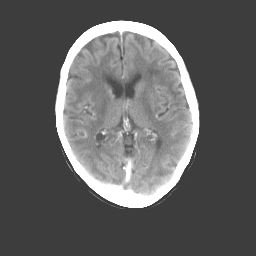ischemic: (136, 81, 155, 120)
